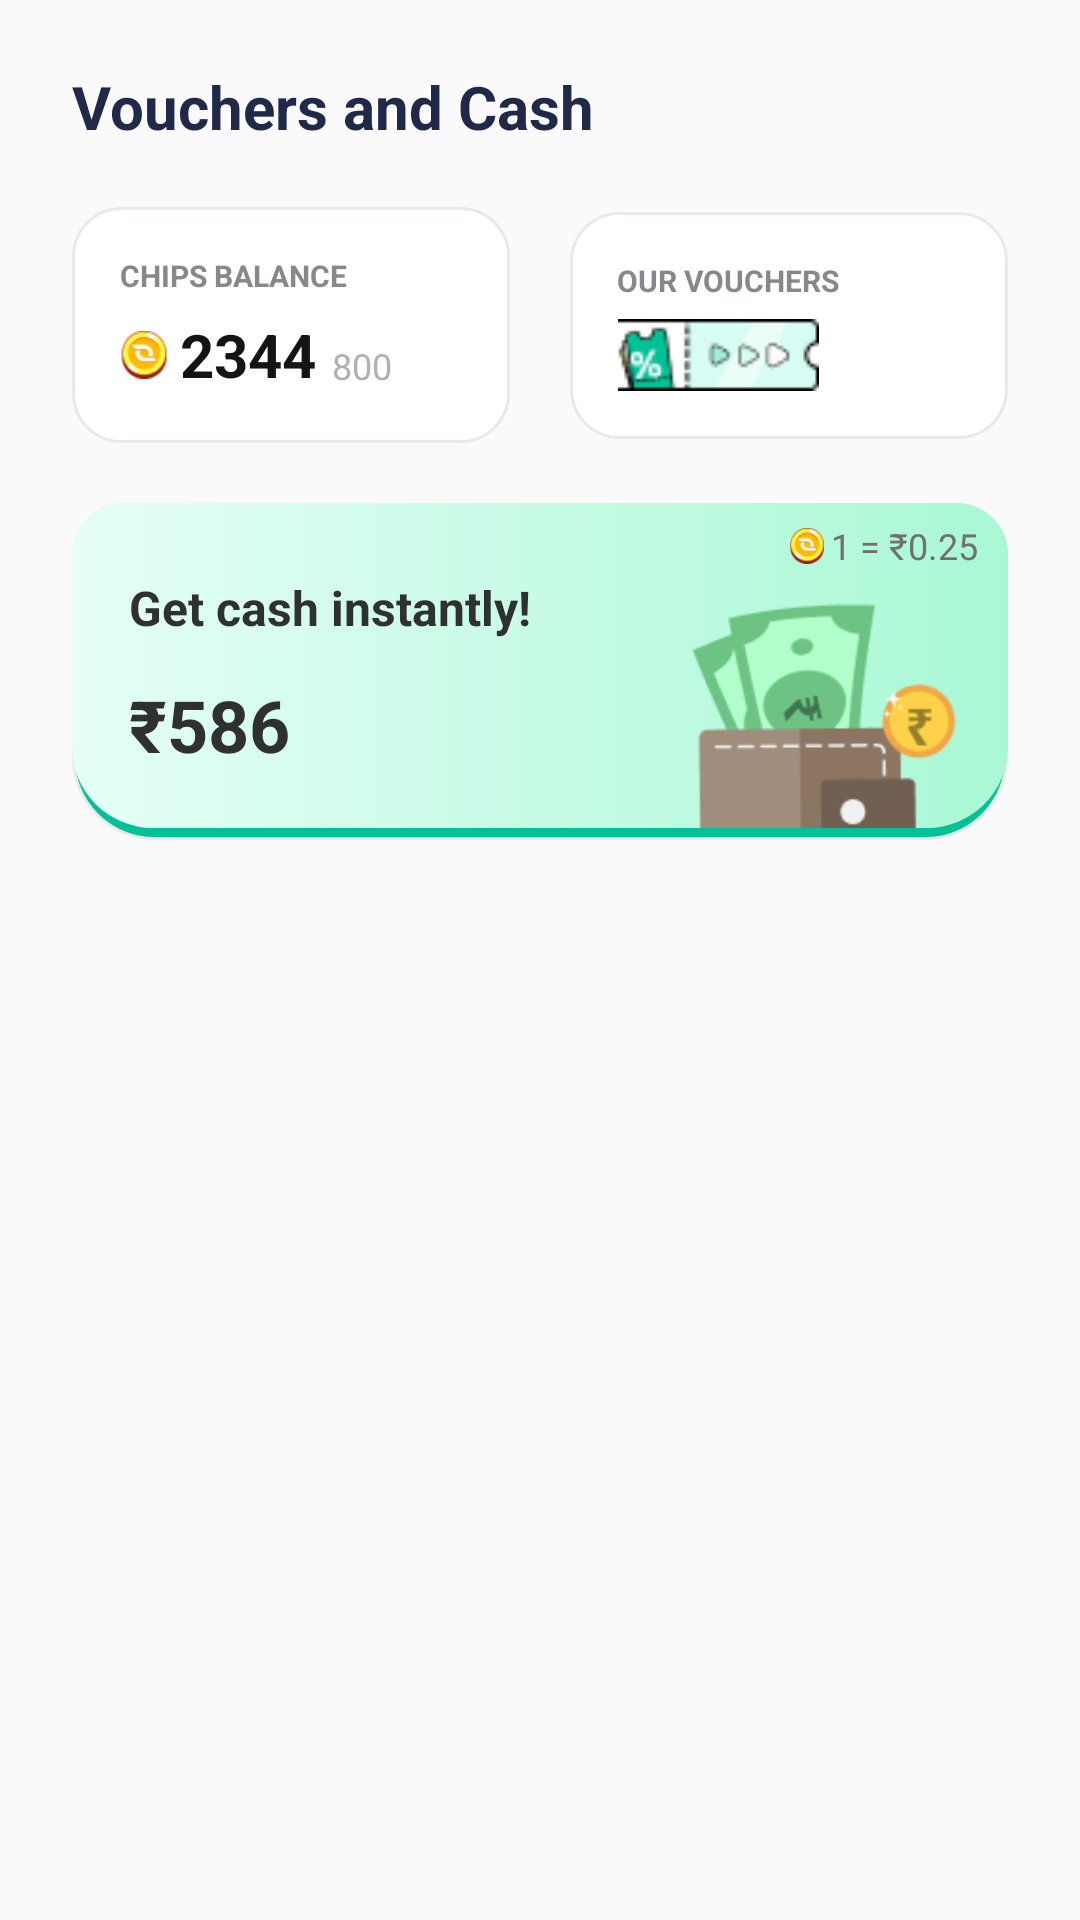

Point at icon controls on the screen. Image size 1080 x 1920, points as (x,y).
rewards voucher: (718,355)
